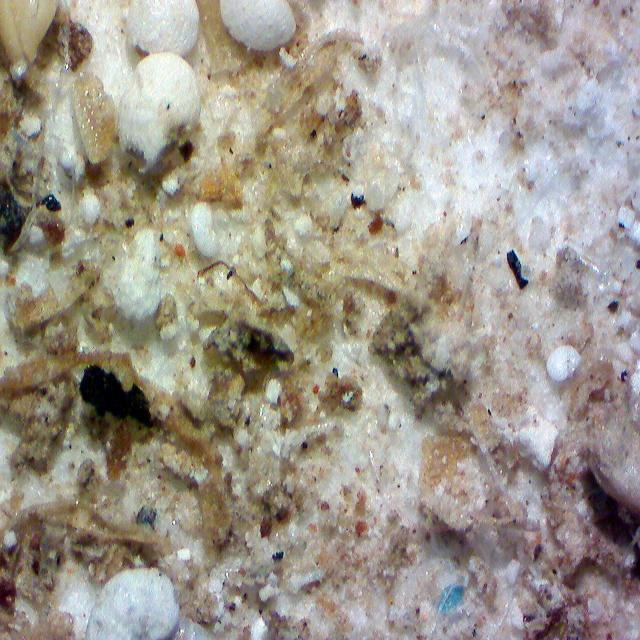microplastic: (437, 582, 464, 614), (367, 212, 386, 235)
